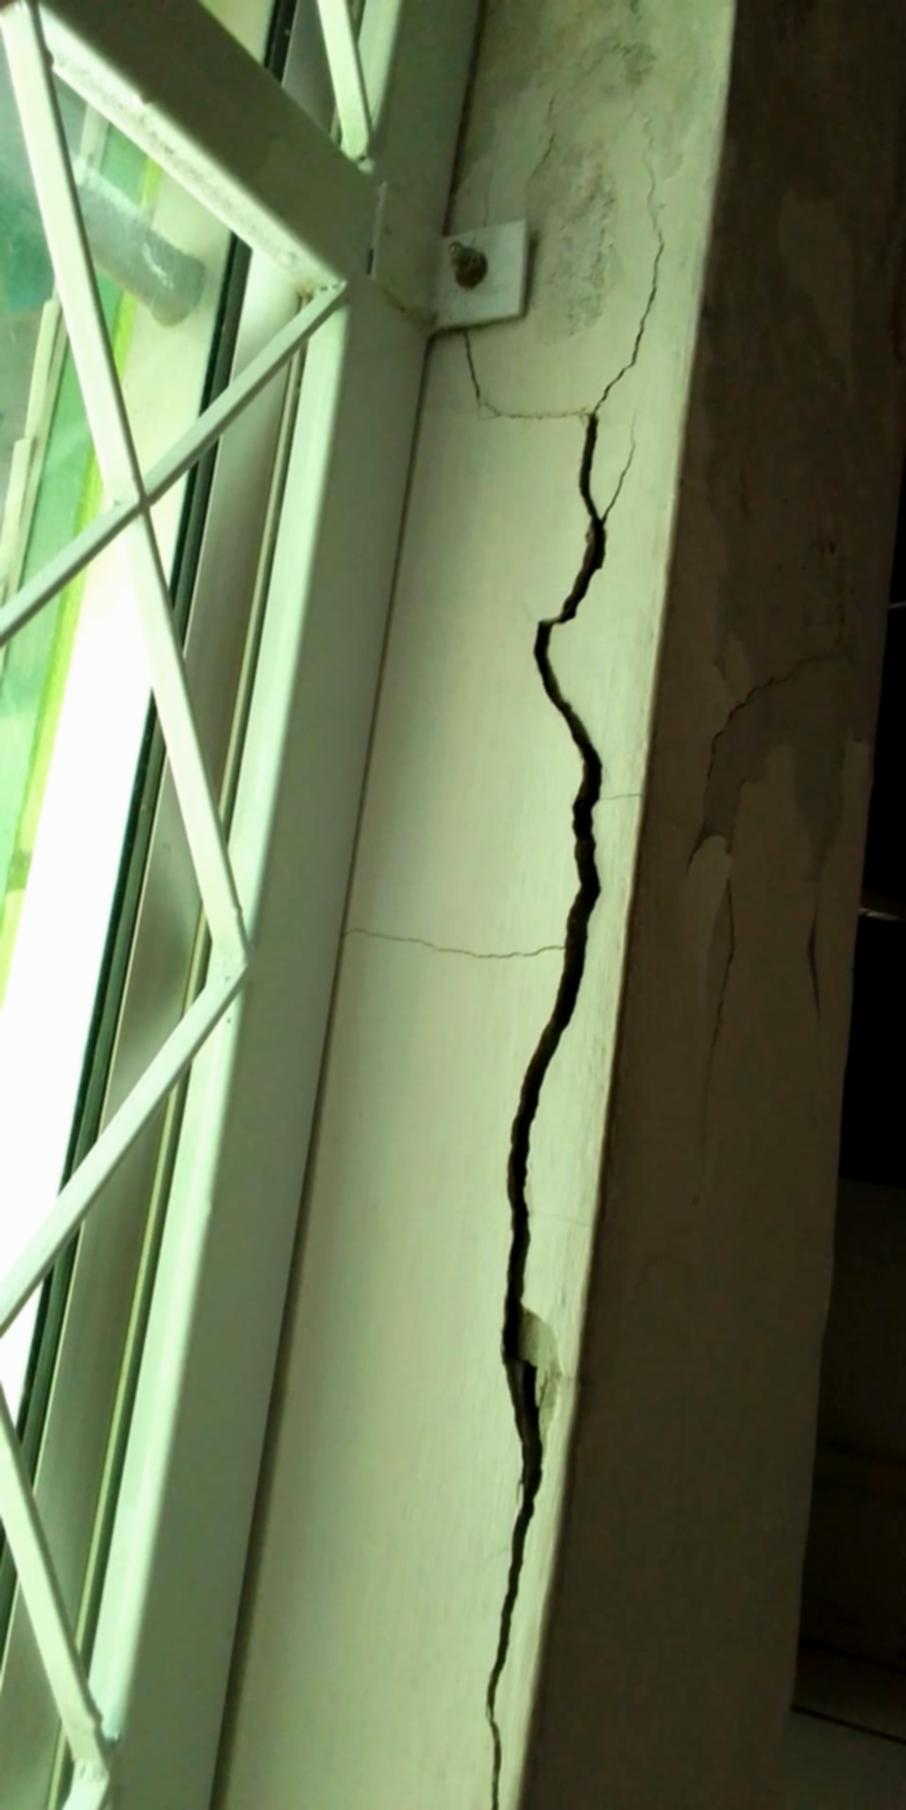High: (428, 1, 693, 1810)
